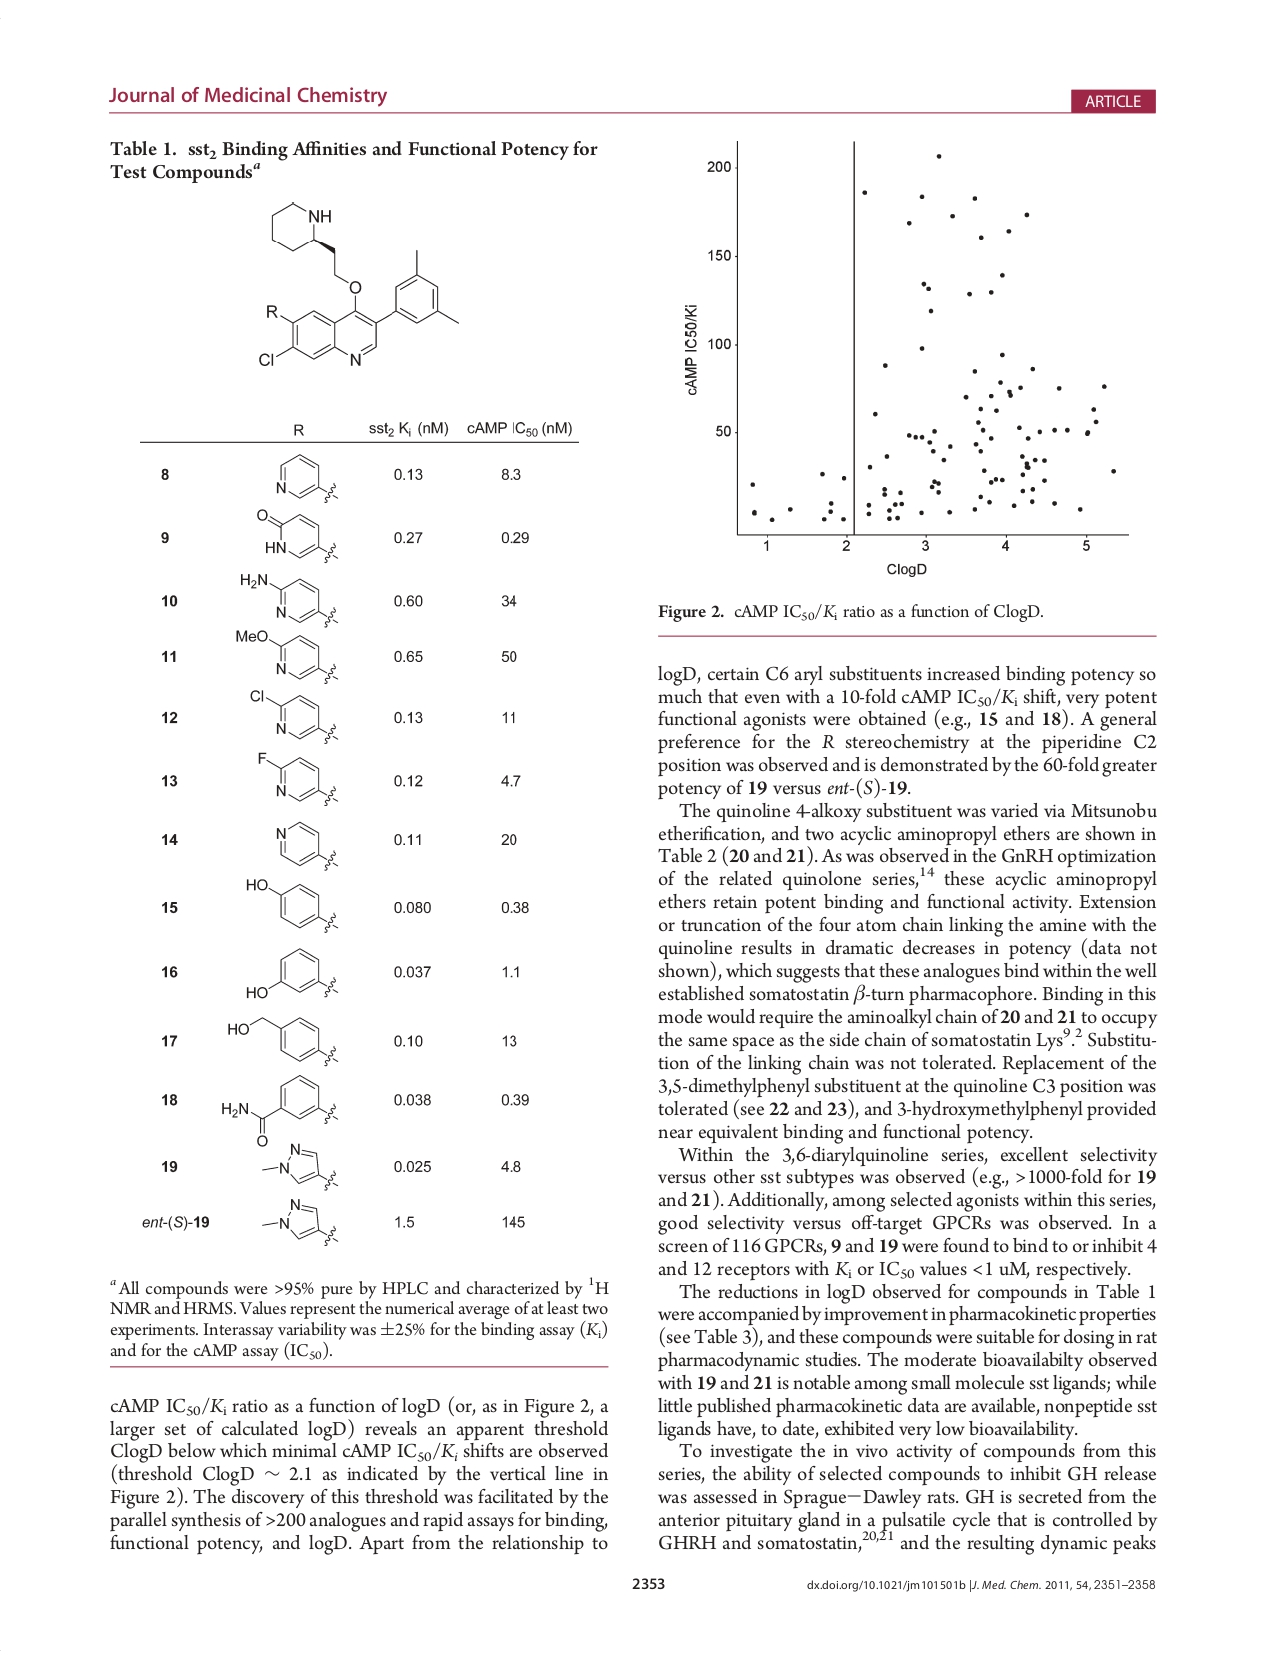exist_molecular: (253, 198, 461, 372), (219, 1075, 339, 1146), (225, 1009, 342, 1071), (237, 569, 340, 630), (243, 874, 340, 938), (233, 629, 340, 685), (243, 942, 339, 1004), (242, 686, 339, 747), (251, 746, 340, 810), (251, 505, 340, 565), (259, 1138, 340, 1194), (261, 1196, 342, 1250), (269, 821, 343, 874), (269, 449, 340, 503)
